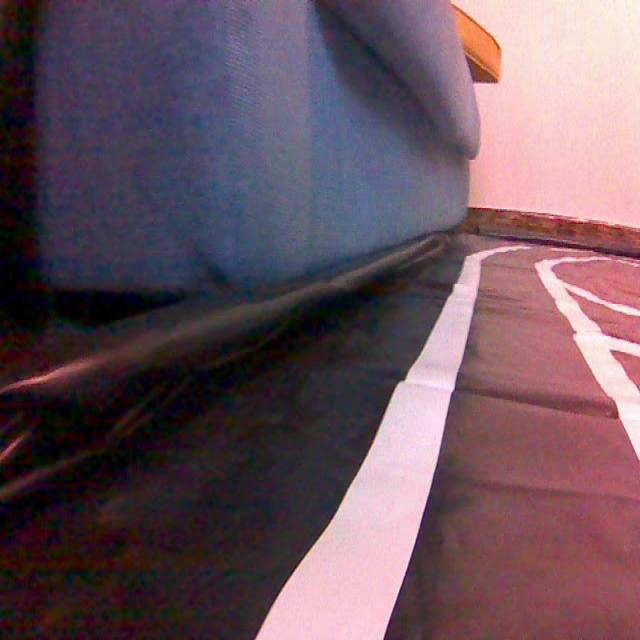LineaCarril: (258, 245, 527, 638), (536, 257, 640, 459)
